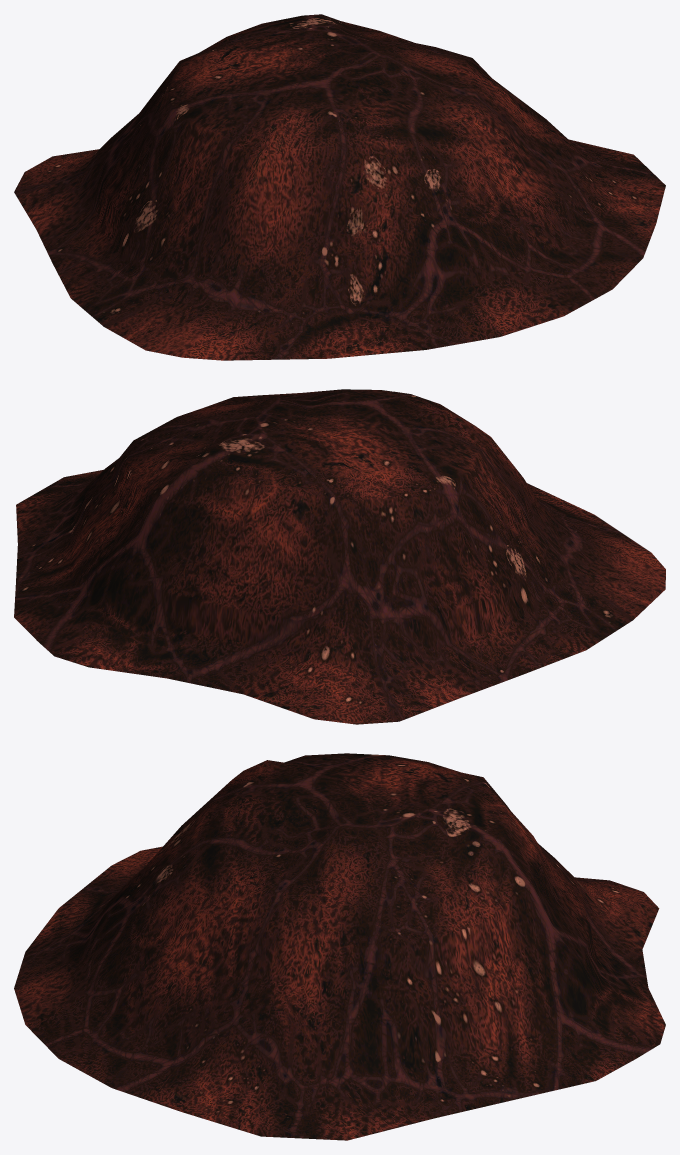
Rendered from shadow_flesh_1.dae.
3 renders of one model, top to bottom at view 1: azimuth 30°, elevation 25°; view 2: azimuth 150°, elevation 25°; view 3: azimuth 270°, elevation 25°, orthographic. The views are drawn at different scales.
Parts seen in each view (by area): view 1: Mesh; view 2: Mesh; view 3: Mesh.
Boxes of the visible parts, x1=… form: Mesh: x1=14, y1=14, x2=665, y2=360; Mesh: x1=14, y1=389, x2=665, y2=724; Mesh: x1=14, y1=753, x2=665, y2=1140.
Bounding box in the file's own units: 2.15 × 0.6246 × 1.96.
